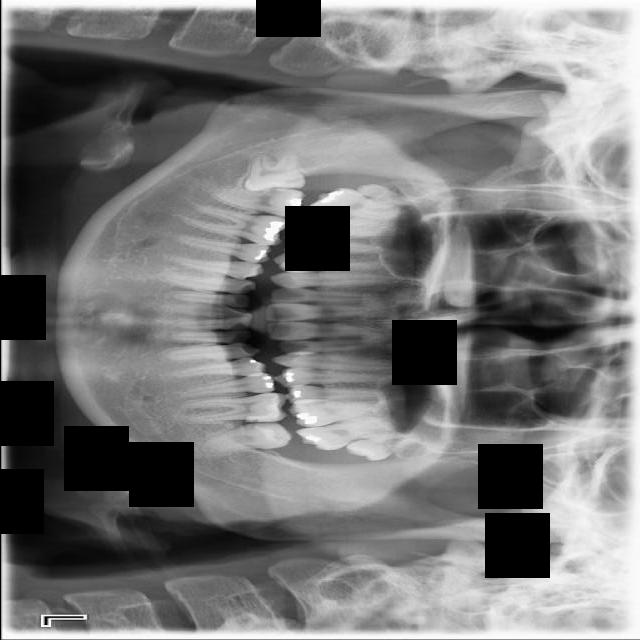3M ESPE Implant: (354, 179, 425, 216)
52: (306, 178, 364, 222), (247, 208, 288, 252), (285, 397, 332, 429), (291, 210, 339, 240), (294, 426, 346, 452), (243, 392, 286, 423), (268, 185, 306, 220), (274, 368, 313, 389), (283, 383, 315, 405), (232, 356, 264, 378), (282, 235, 314, 256), (272, 253, 307, 272), (244, 373, 276, 393), (237, 244, 270, 263)
73: (20, 616, 34, 628)
BioHorizons Implant: (295, 415, 398, 455)
BioLife Implant: (343, 428, 424, 467)
Blue Sky Bio Implant: (199, 419, 292, 457)
Caries: (308, 182, 412, 227)
Implant: (206, 187, 304, 218)
Keystone Dental Implant: (241, 150, 306, 195)
